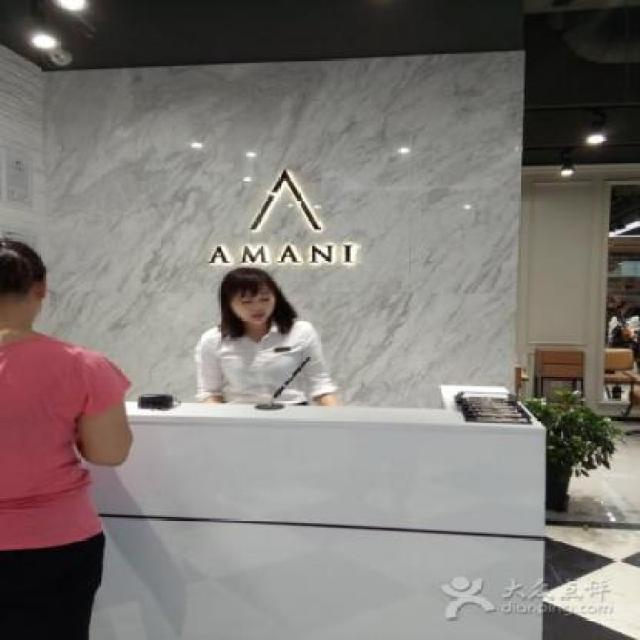frontdesk: (0, 368, 554, 638)
